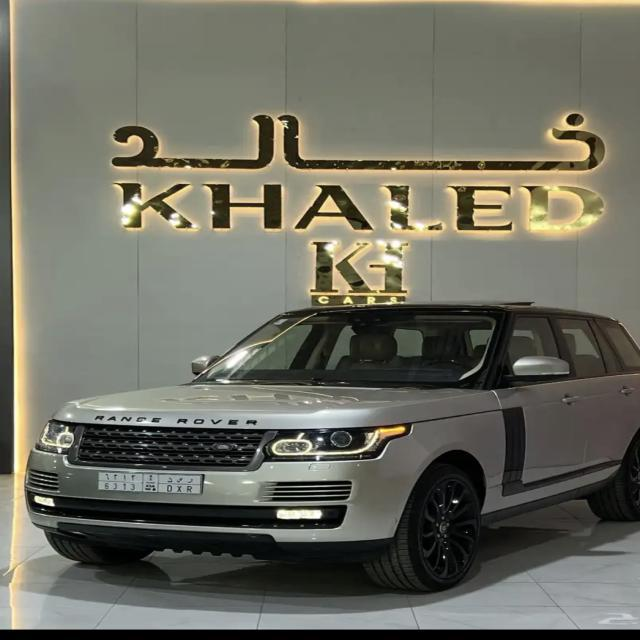license_plate: (98, 469, 202, 497)
